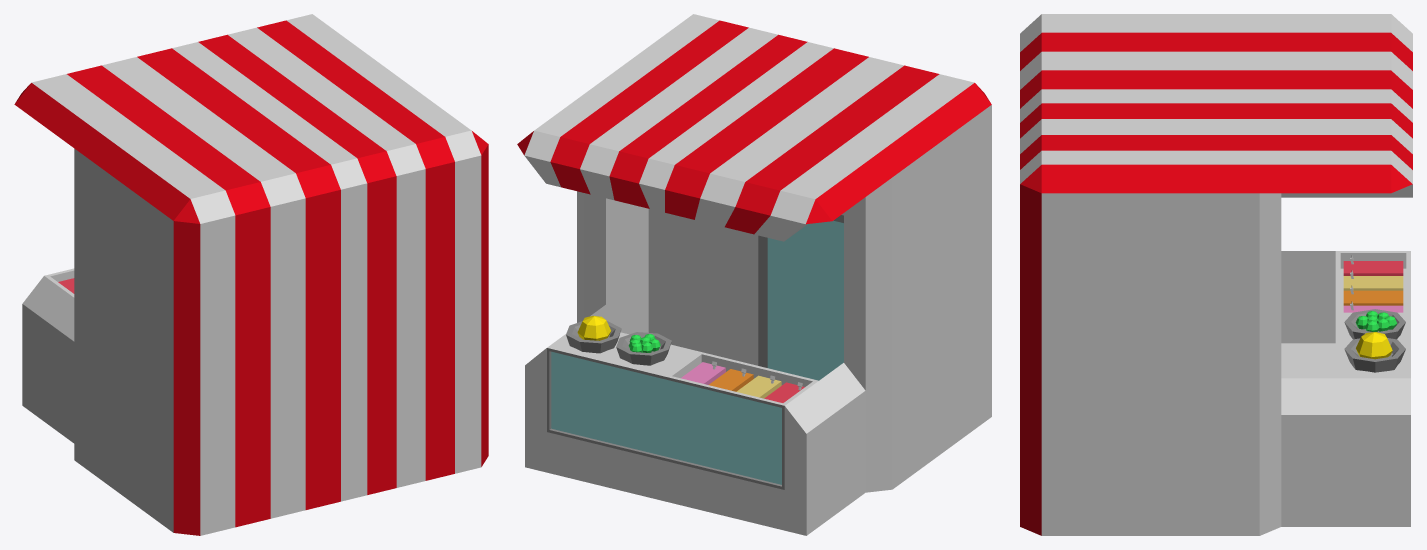
File: StationWinkel.fbx
3 renders of one model, left to right at view 1: azimuth 30°, elevation 25°; view 2: azimuth 150°, elevation 25°; view 3: azimuth 270°, elevation 25°, orthographic. The views are drawn at different scales.
Visible parts, largest first — view 1: Cube; view 2: Cube; view 3: Cube.
Boxes of the visible parts, <box> form: Cube: <box>14,14,488,535</box>; Cube: <box>517,14,991,535</box>; Cube: <box>1020,14,1412,535</box>.
Size of the model in its own units: 200 by 200 by 197.
